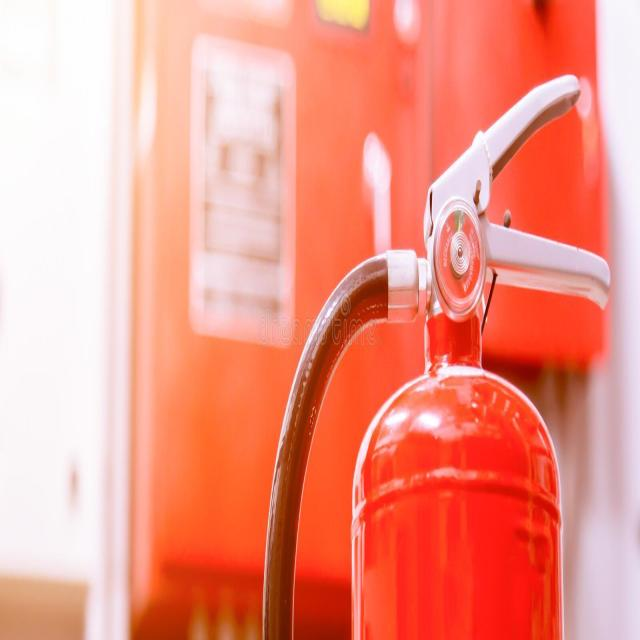fire_extinguisher: (251, 58, 619, 639)
